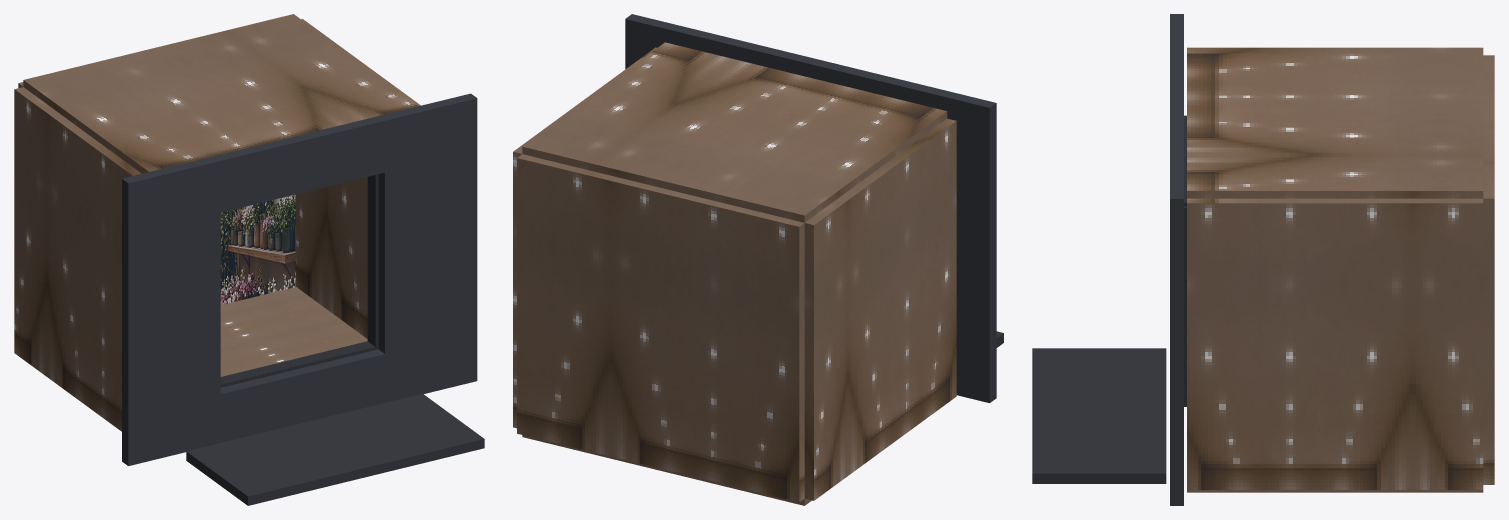
The model's file is quay-bay.glb.
3 views of the same model, side by side, from view 1: azimuth 30°, elevation 25°; view 2: azimuth 150°, elevation 25°; view 3: azimuth 270°, elevation 25° (orthographic). The views are drawn at different scales.
Visible parts, largest first — view 1: QuayBay; view 2: QuayBay; view 3: QuayBay.
Part boxes in pixels (x1,y1,x2,y2): QuayBay: [14, 14, 484, 505]; QuayBay: [513, 14, 1003, 505]; QuayBay: [1032, 14, 1494, 505].
Bounding box in the file's own units: 3.1 × 2.46 × 3.28.
Materials: 6 (3 with a texture image).
